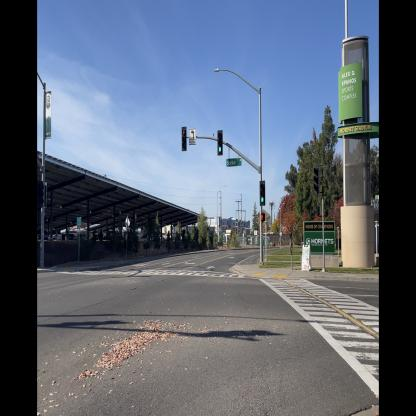green: (259, 179, 266, 207), (217, 129, 223, 157)
left-red: (181, 125, 187, 153)
